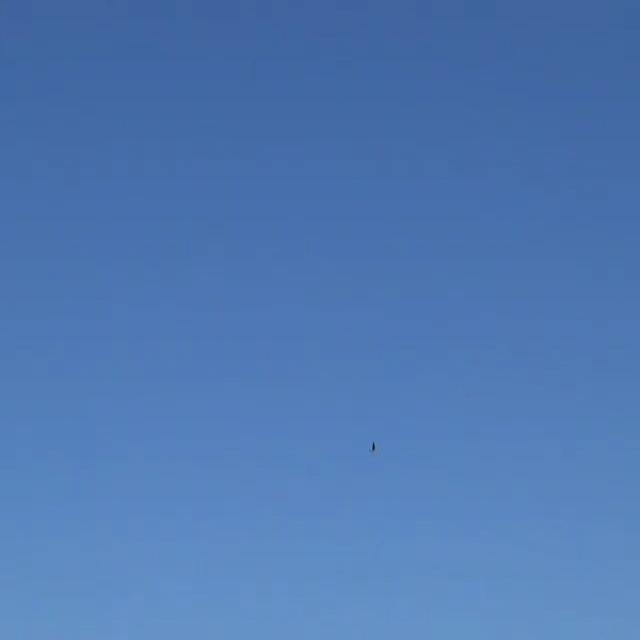bird: (364, 438, 381, 458)
